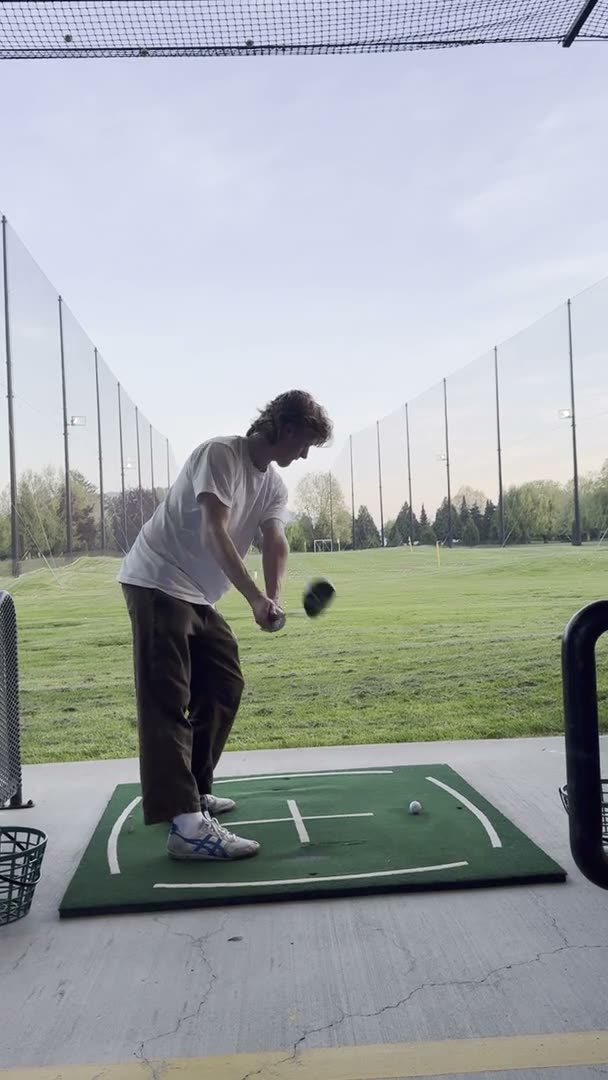Golf Ball: (407, 800, 424, 818)
